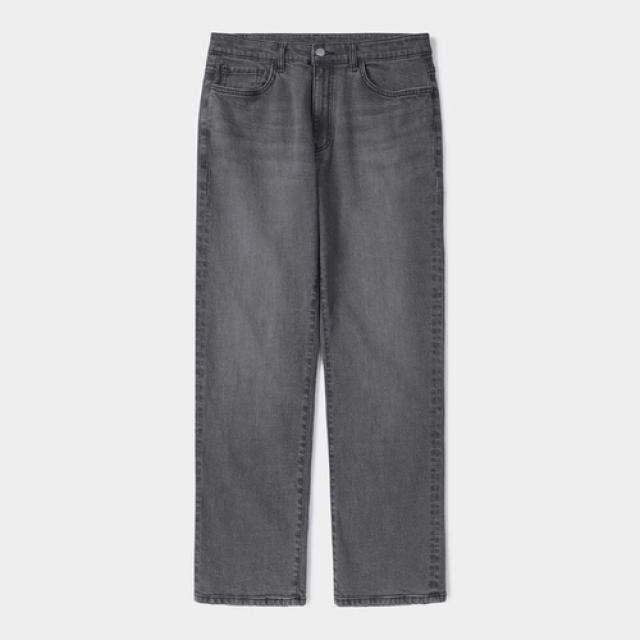dress: (195, 31, 450, 608)
